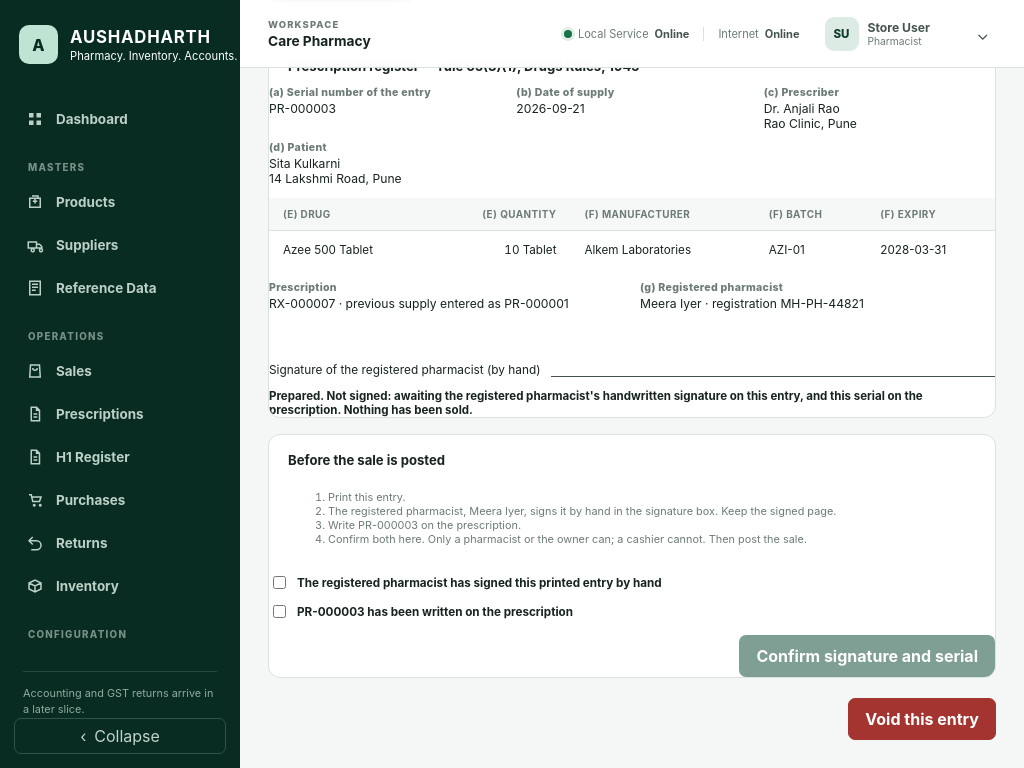
Test case: the rule 65(3)(1) entry › confirms only with both manual acts, and then sends the counter back to post
(page scrolled)
expect the button "Confirm signature and serial" is disabled: met, box [739,635,995,677]
Click the checkbox labelled "The registered pharmacist has signed this printed entry by hand".
click(280, 583)  # box [273,576,286,589]
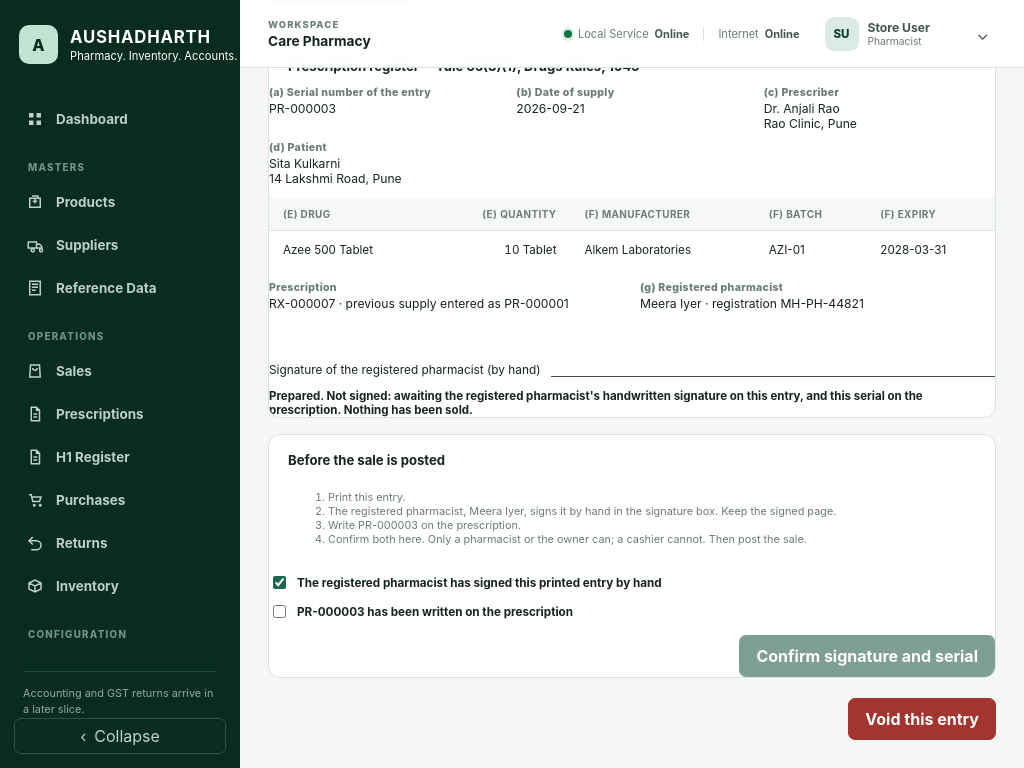
expect the button "Confirm signature and serial" is disabled: met, box [739,635,995,677]
Click the checkbox labelled "The registered pharmacist has signed this printed entry by hand".
click(280, 583)  # box [273,576,286,589]
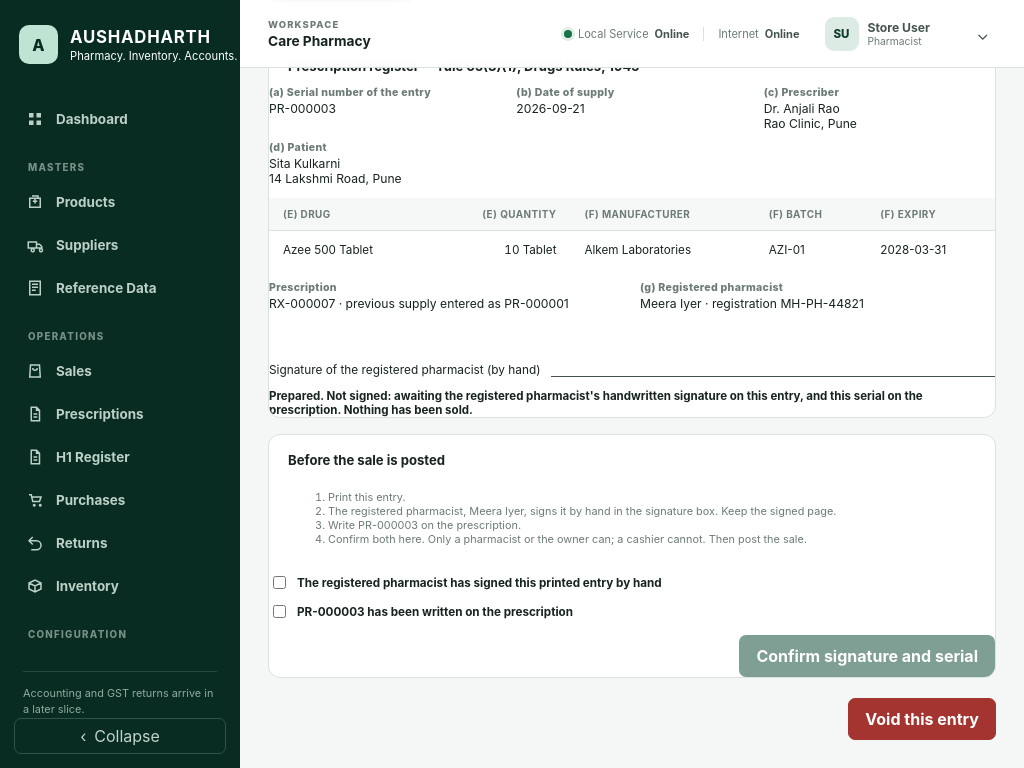
Click the checkbox labelled "PR-000003 has been written on the prescription".
click(280, 612)  # box [273,605,286,618]
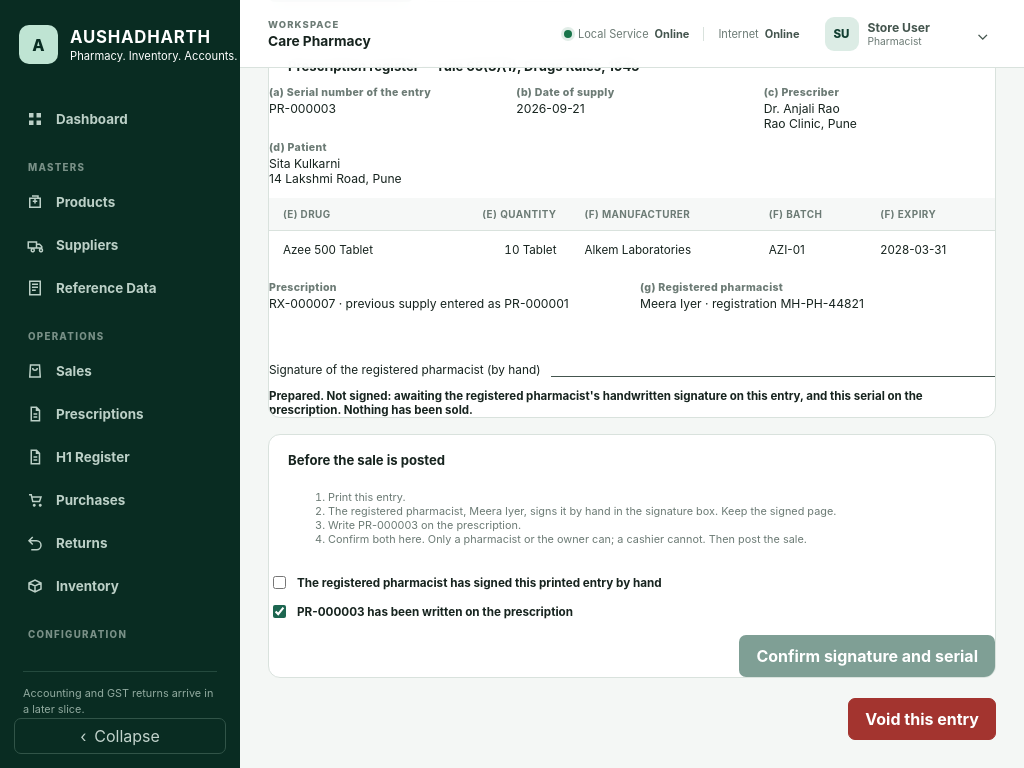
expect the button "Confirm signature and serial" is disabled: met, box [739,635,995,677]
Click the checkbox labelled "The registered pharmacist has signed this printed entry by hand".
click(280, 583)  # box [273,576,286,589]
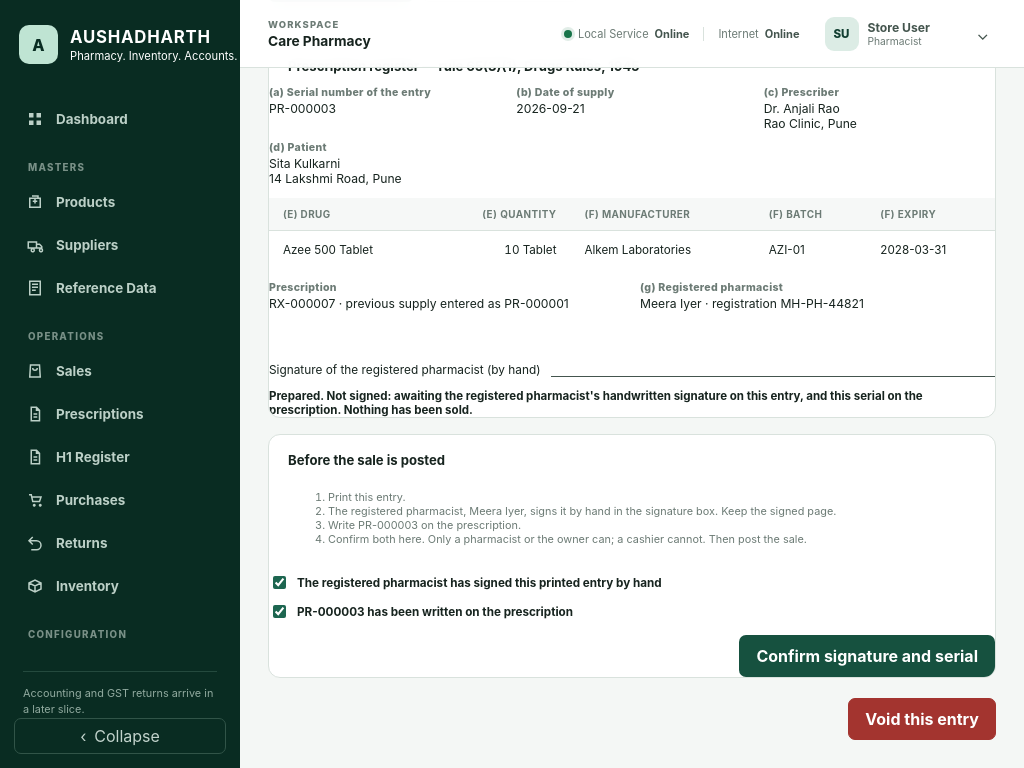
expect the button "Confirm signature and serial" is enabled: met
Click the button "Confirm signature and serial".
click(867, 656)  # box [739,635,995,677]
(page scrolled)
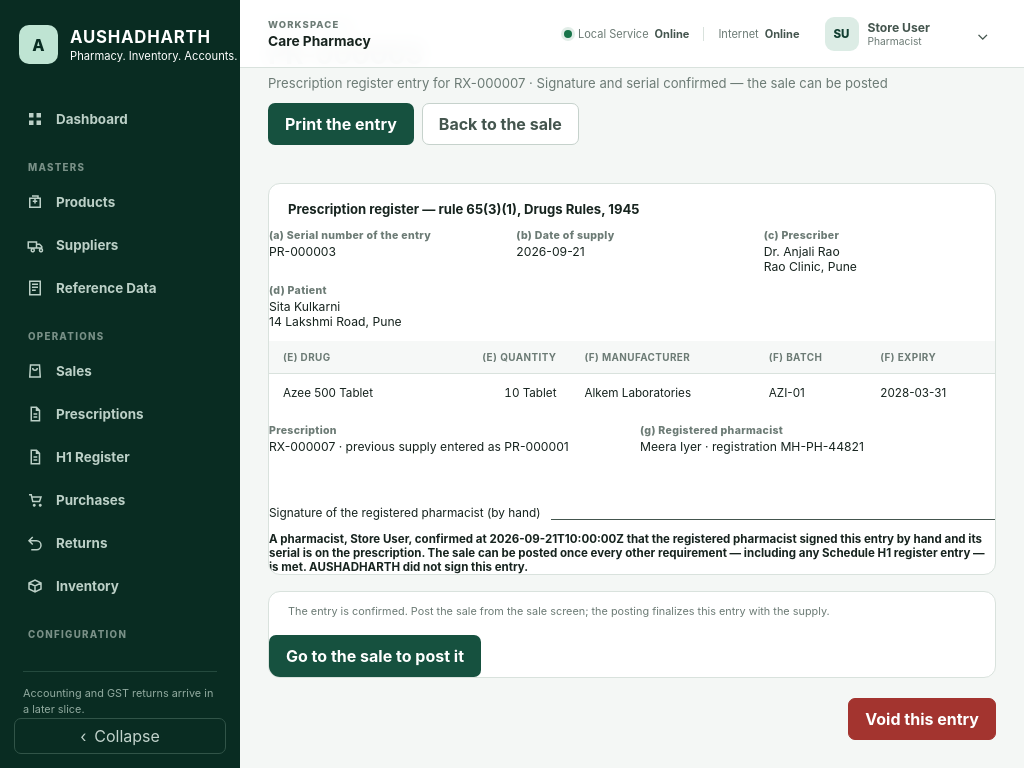
expect the text with test id "record-status" shows "A pharmacist, Store User, confirmed": met, box [269,532,985,574]
expect the text with test id "record-status" shows "AUSHADHARTH did not sign this entry.": met, box [269,532,985,574]
expect the button "Confirm signature and serial" is gone: met
